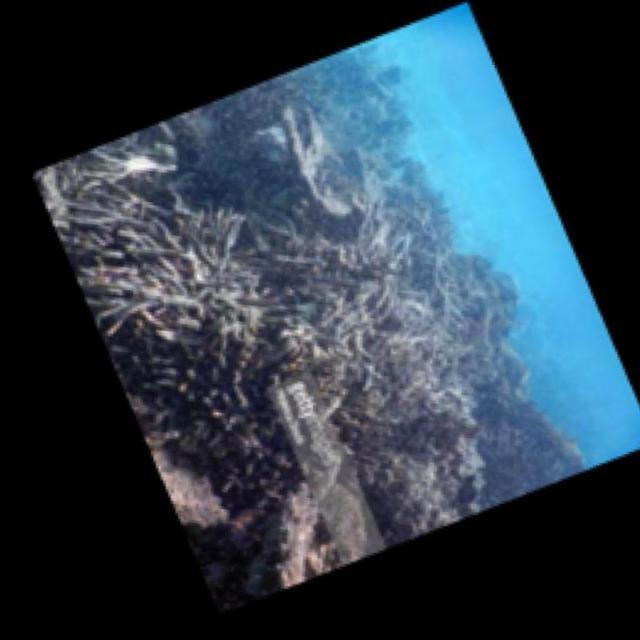Dead Coral: (100, 313, 289, 552), (71, 151, 272, 358), (284, 186, 463, 380)
